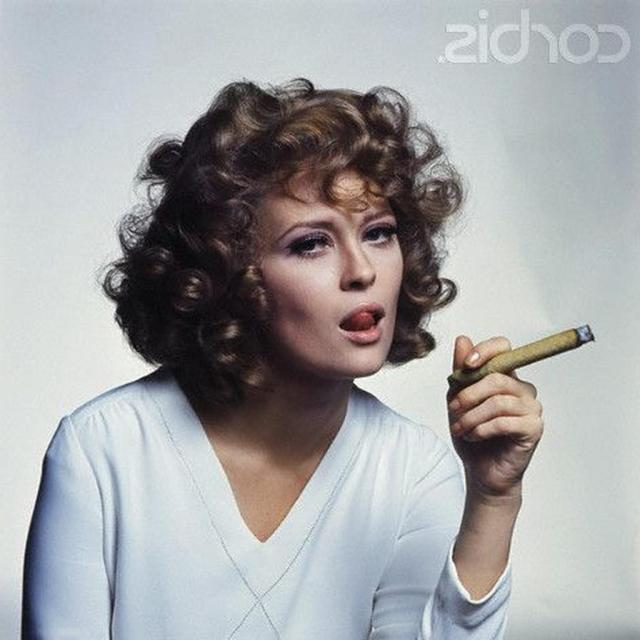smoking: (179, 154, 597, 399)
